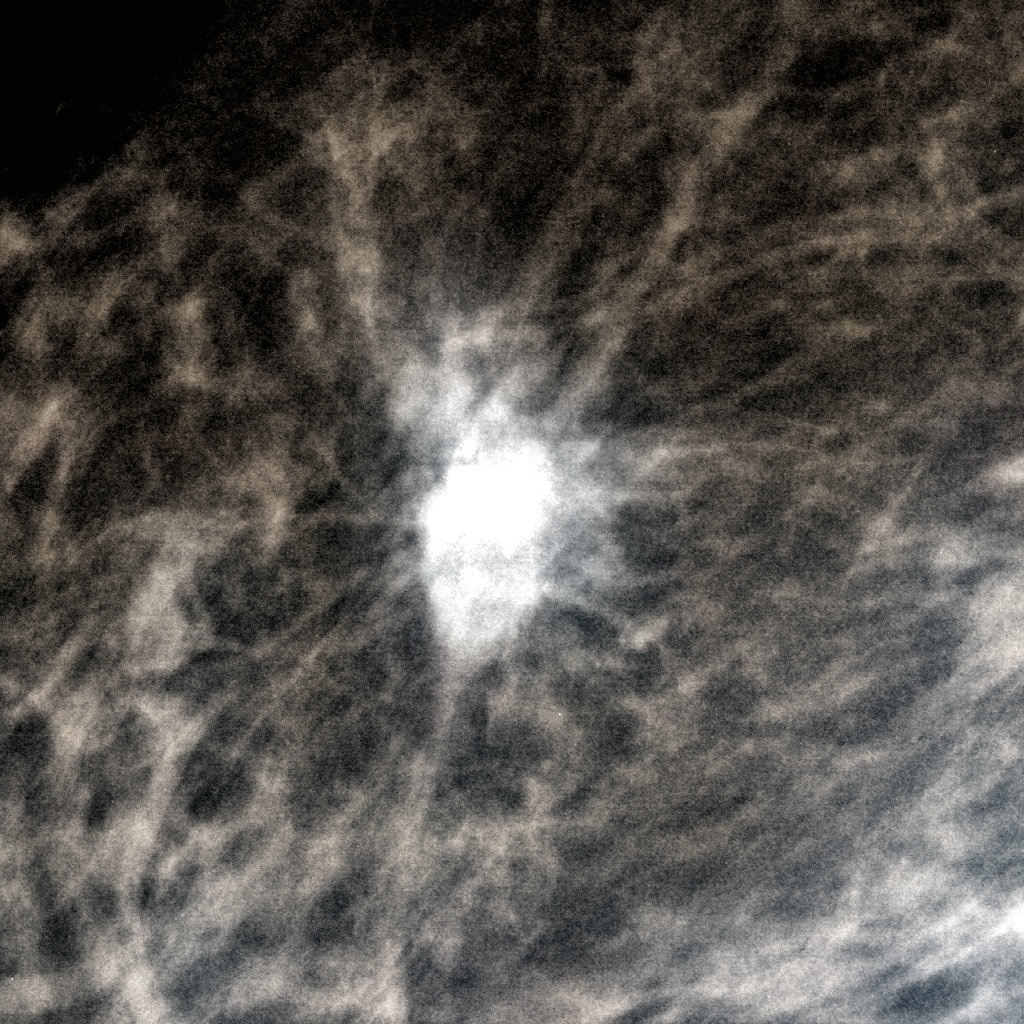tumor: (381, 352, 643, 672)
